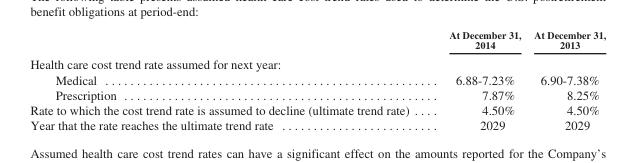table: (29, 28, 605, 131)
table column: (29, 28, 428, 131), (428, 28, 526, 131), (526, 28, 605, 131)
table column header: (29, 28, 605, 53)
table projected row header: (29, 53, 605, 71)
table row: (29, 28, 605, 53), (29, 53, 605, 71), (29, 86, 605, 102), (29, 71, 605, 86), (29, 102, 605, 117), (29, 117, 605, 131)
